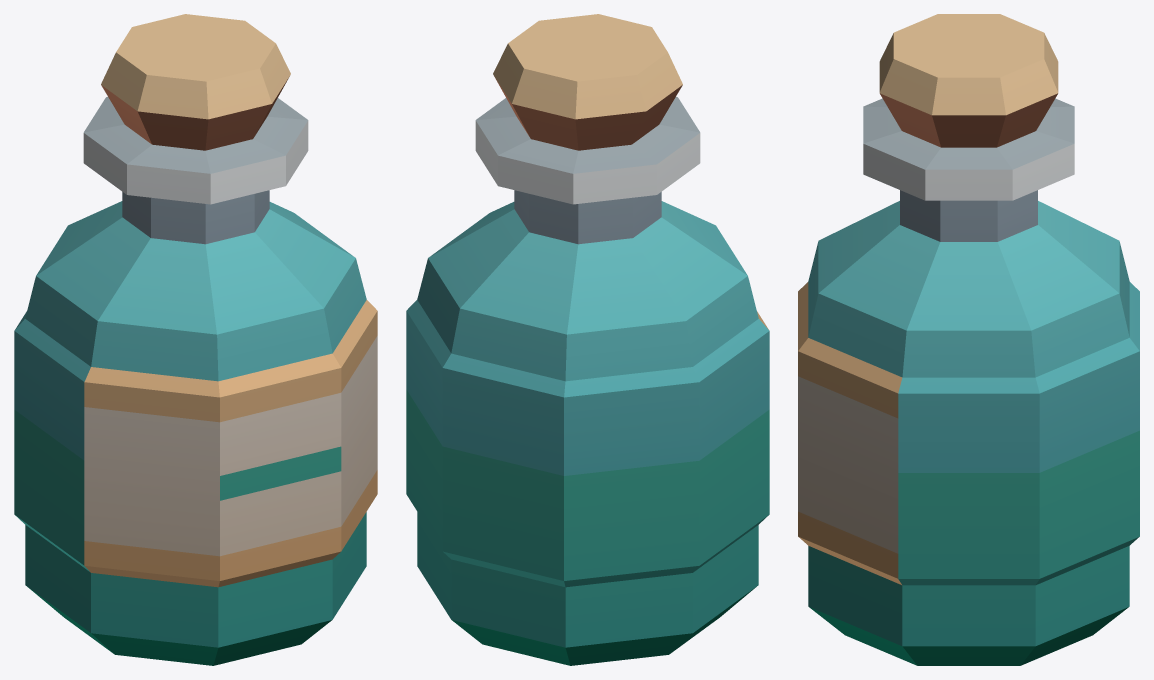
The model's file is source.glb.
3 views of the same model, side by side, from view 1: azimuth 30°, elevation 25°; view 2: azimuth 150°, elevation 25°; view 3: azimuth 270°, elevation 25° (orthographic).
Parts seen in each view (by area): view 1: model; view 2: model; view 3: model.
Part boxes in pixels (<box>): model: <box>14,14,377,665</box>; model: <box>406,14,769,665</box>; model: <box>798,14,1139,665</box>.
Bounding box in the file's own units: 0.48 × 0.88 × 0.48.
1 material, 1 textured.
